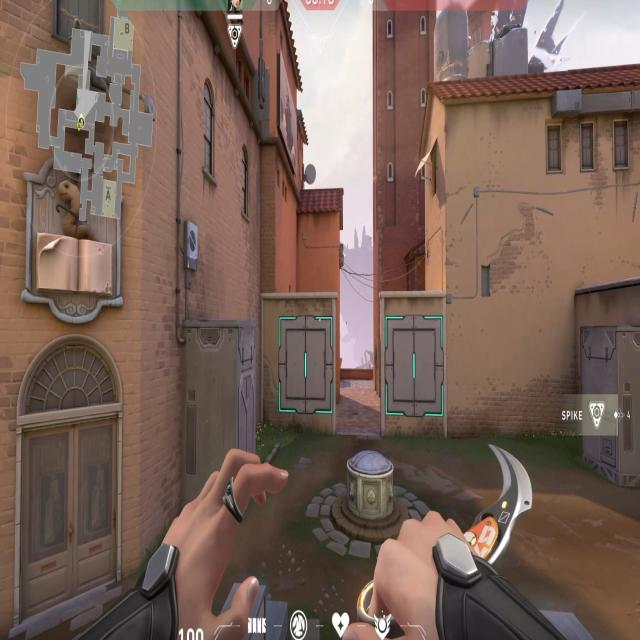Mid_Wall: (266, 287, 344, 431), (378, 284, 451, 430)
